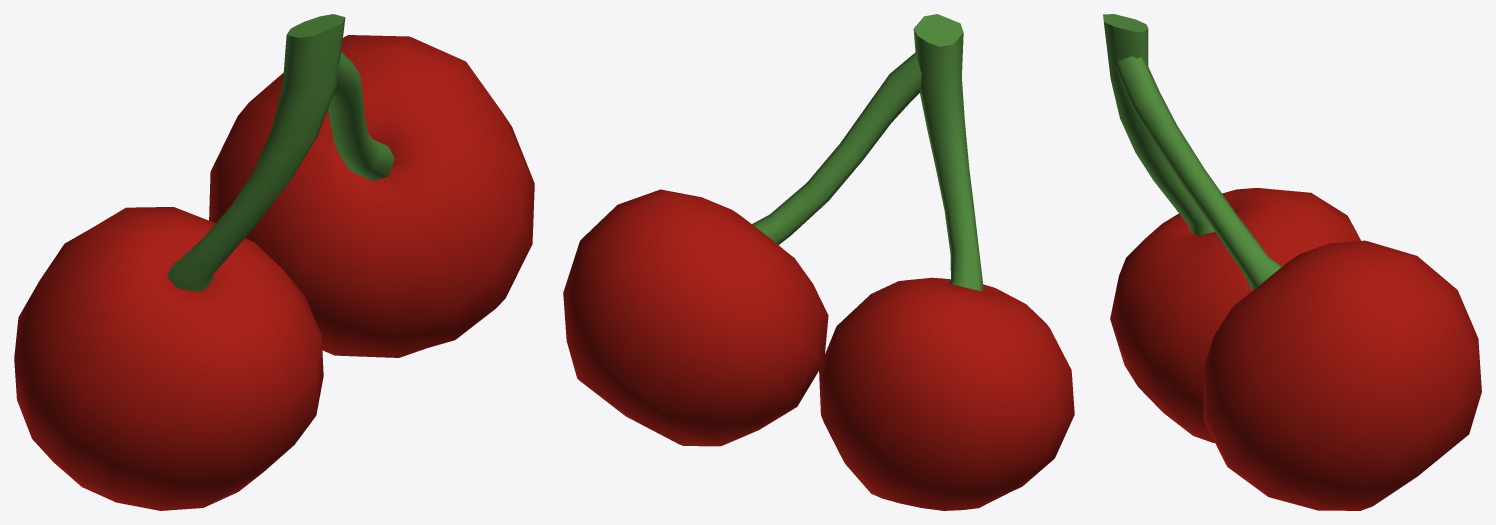
File: Cherry.fbx
3 renders of one model, left to right at view 1: azimuth 30°, elevation 25°; view 2: azimuth 150°, elevation 25°; view 3: azimuth 270°, elevation 25°, orthographic. The views are drawn at different scales.
Parts seen in each view (by area): view 1: Cherry; view 2: Cherry; view 3: Cherry.
Boxes of the visible parts, x1,y1,x2,y2 form: Cherry: [14, 14, 534, 510]; Cherry: [563, 14, 1074, 510]; Cherry: [1103, 14, 1481, 510].
Size of the model in its own units: 27.99 by 25.43 by 19.36.
